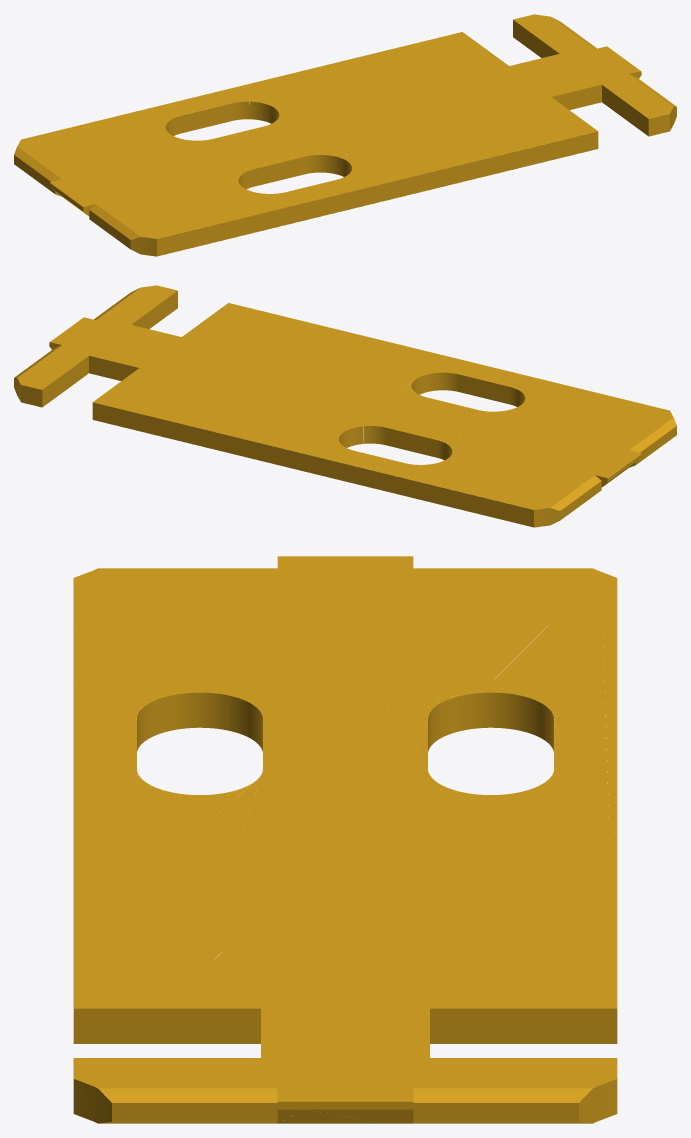
File: asinma-atlas-copco-hb-2200-03.glb
3 views of the same model, one above another, from view 1: azimuth 30°, elevation 25°; view 2: azimuth 150°, elevation 25°; view 3: azimuth 270°, elevation 25° (orthographic). The views are drawn at different scales.
Visible parts, largest first — view 1: body; view 2: body; view 3: body.
Boxes of the visible parts, x1,y1,x2,y2 form: body: (14, 14, 676, 256); body: (14, 285, 676, 527); body: (73, 556, 617, 1123).
Size of the model in its own units: 0.664 by 0.02 by 0.28.
